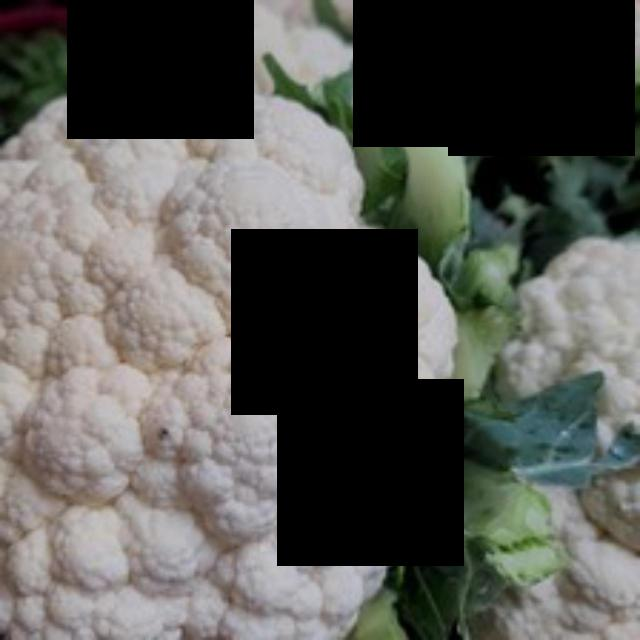cauliflower: (0, 74, 460, 637)
